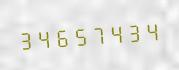five: (71, 21, 88, 50)
four: (35, 23, 52, 52), (107, 18, 124, 47), (143, 16, 160, 45)
seven: (89, 20, 106, 48)
six: (53, 22, 70, 51)
three: (125, 17, 142, 46), (17, 25, 34, 53)
